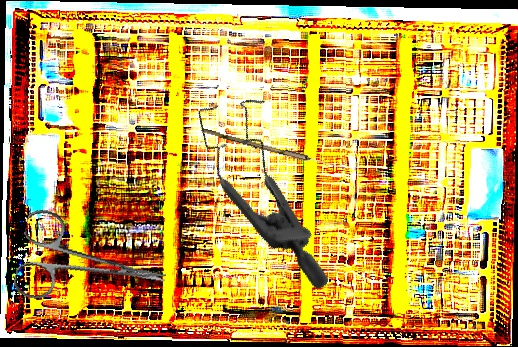Iris Scissors: (11, 206, 174, 326)
Speculum: (149, 74, 390, 293)
Surgical Spoon: (200, 128, 347, 171)
